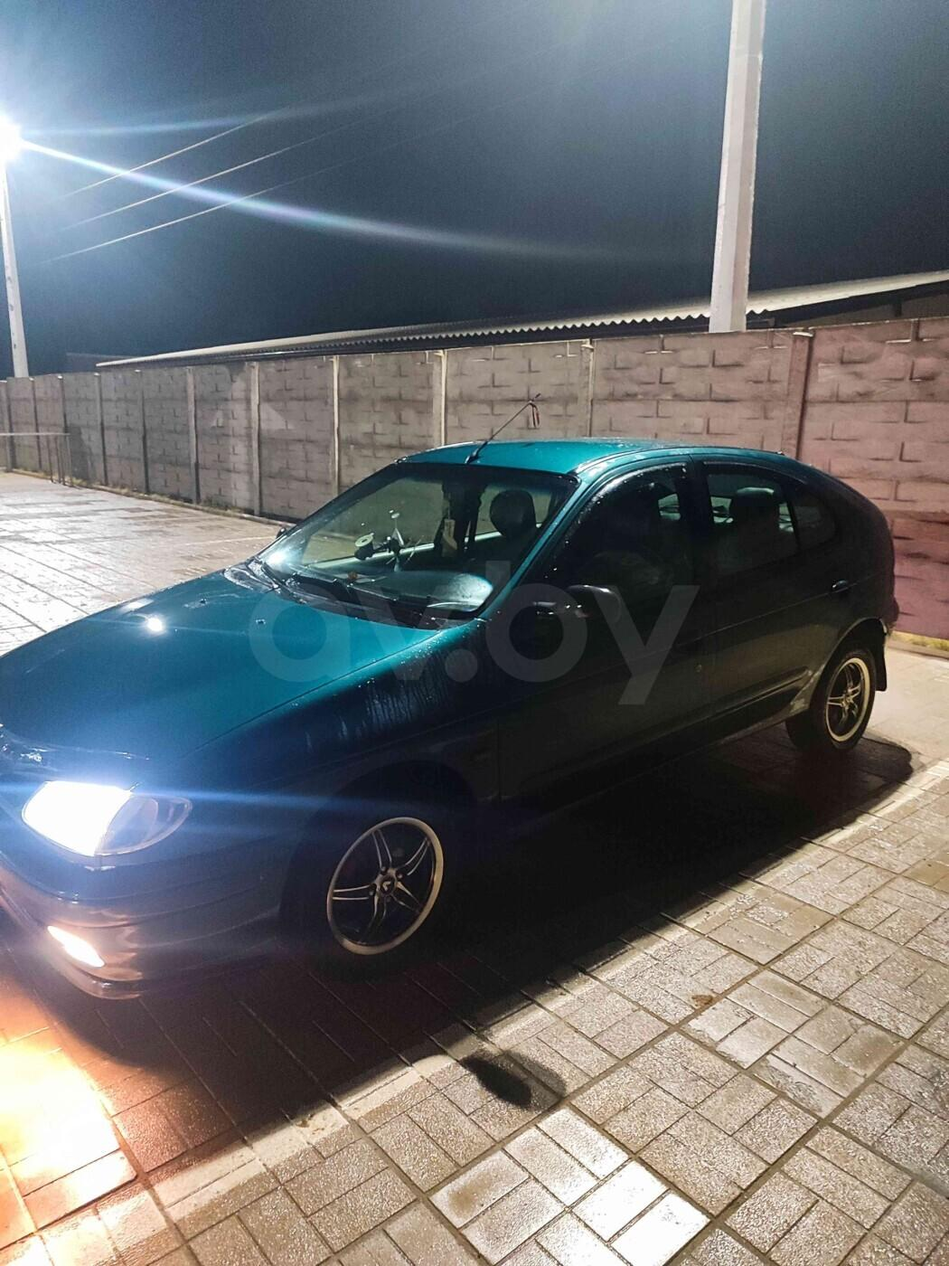Megane_1995-1999: (0, 436, 895, 1015)
